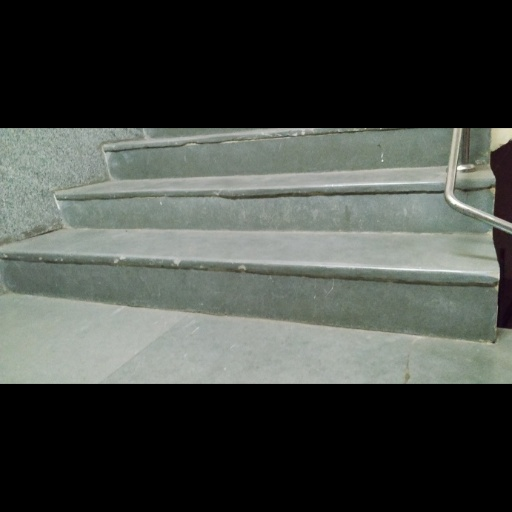Stairs: (0, 166, 471, 296), (222, 240, 464, 284)
